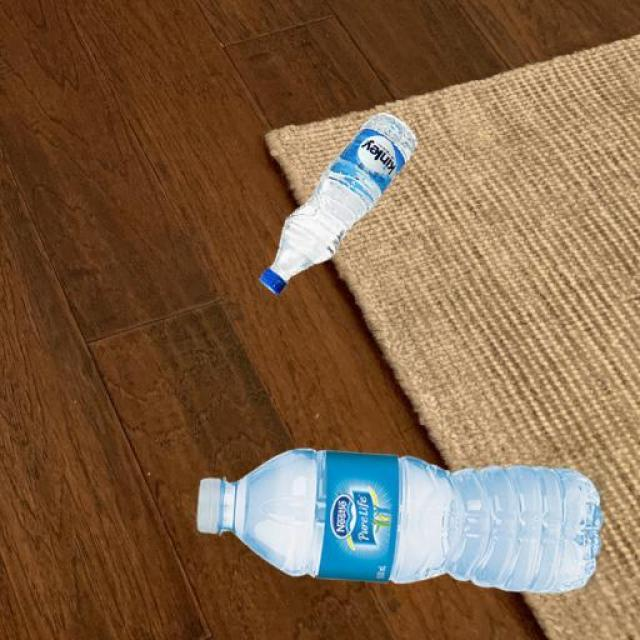bottle: (194, 446, 604, 594), (258, 110, 418, 296)
